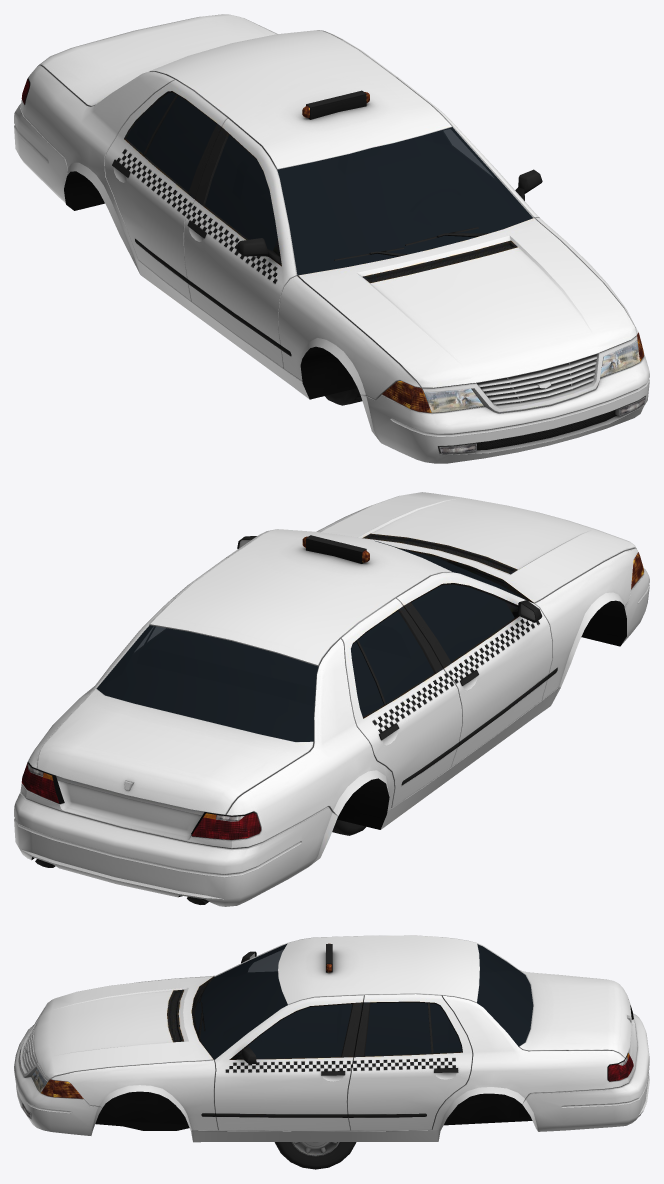
Rendered from taxi.glb.
3 renders of one model, top to bottom at view 1: azimuth 30°, elevation 25°; view 2: azimuth 150°, elevation 25°; view 3: azimuth 270°, elevation 25°, orthographic. The views are drawn at different scales.
Parts seen in each view (by area): view 1: paint, glass, head, tail; view 2: paint, glass, tail, head; view 3: paint, glass, wheel0, tail, head.
Part boxes in pixels (x1,y1,x2,y2): paint: (14,14,649,463); glass: (126,92,532,275); head: (22,78,645,453); tail: (21,79,643,412); paint: (14,492,649,906); glass: (96,540,524,741); tail: (21,536,643,839); head: (27,552,638,839); paint: (14,935,649,1142); glass: (194,944,533,1059); wheel0: (274,1142,356,1169); tail: (41,943,633,1098); head: (22,1005,633,1117).
Size of the model in its own units: 2 by 1.86 by 5.09.
Materials: 5 (4 with a texture image).
